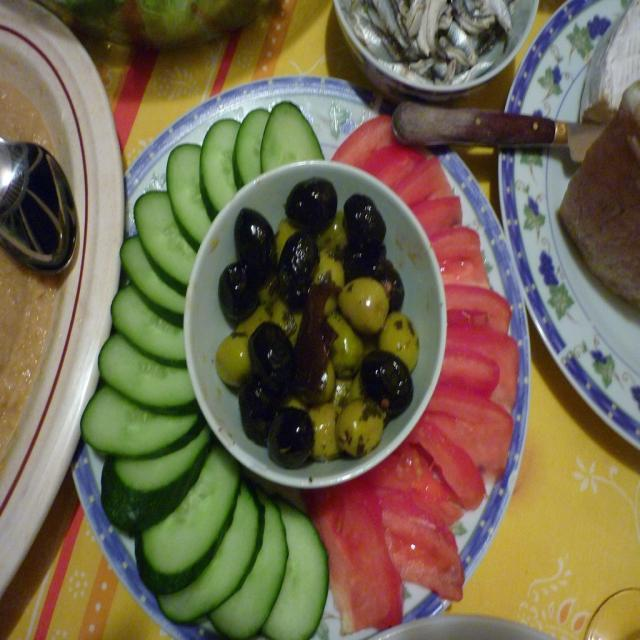Zucchini: (79, 101, 335, 635), (256, 97, 328, 175)
